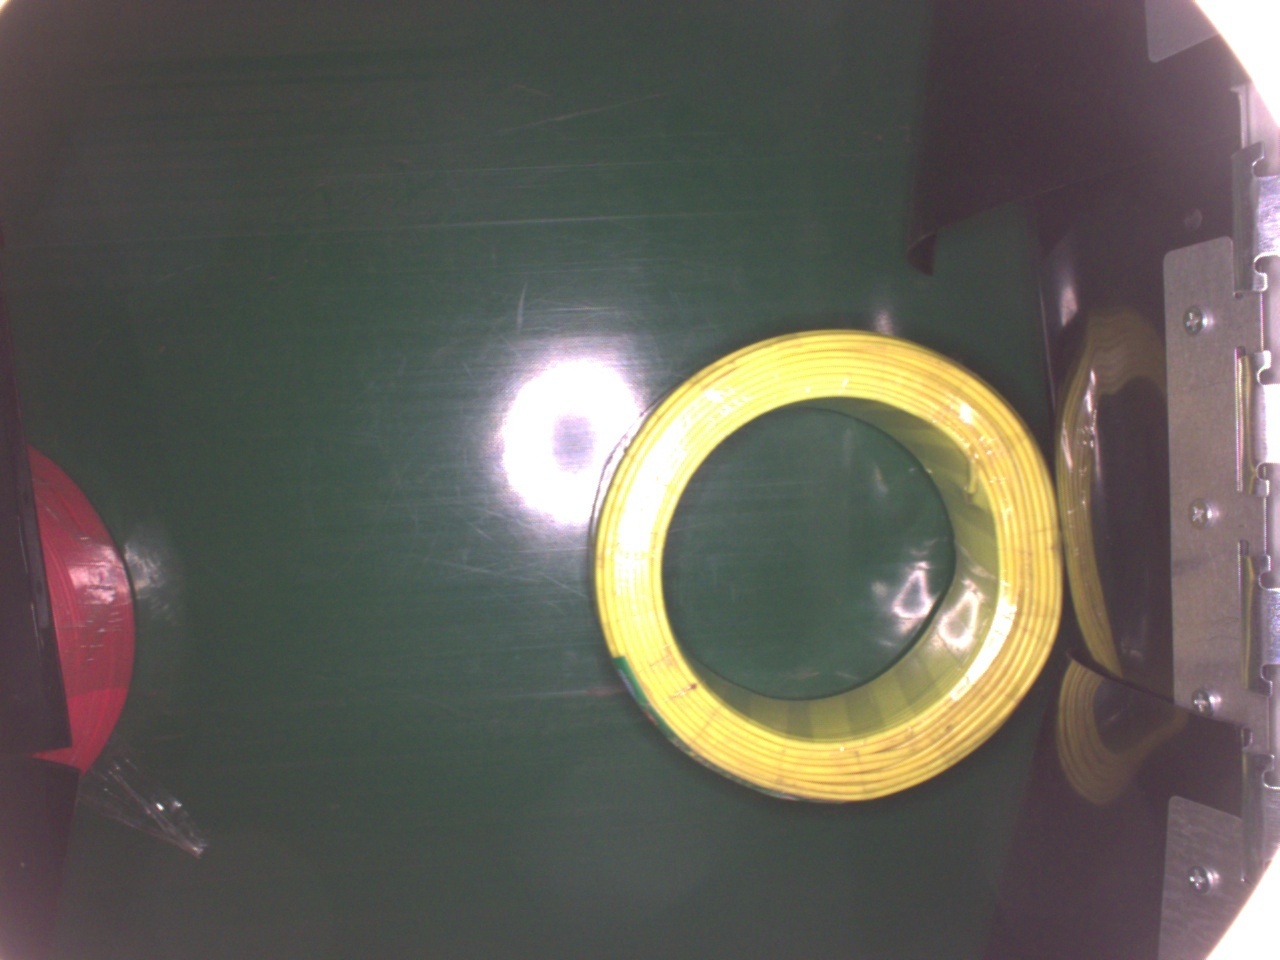yellow: (593, 326, 1063, 798)
